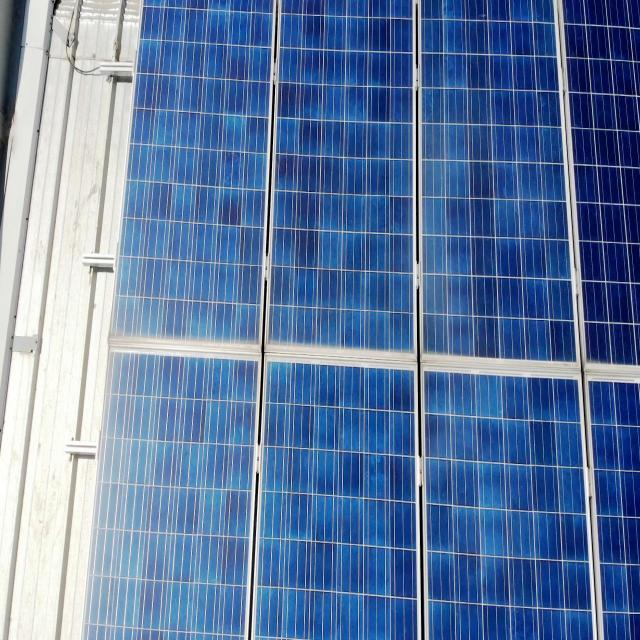no faulty: (416, 4, 584, 362), (262, 5, 420, 360), (110, 2, 266, 342), (85, 350, 263, 640), (416, 359, 598, 638), (261, 353, 424, 637)
